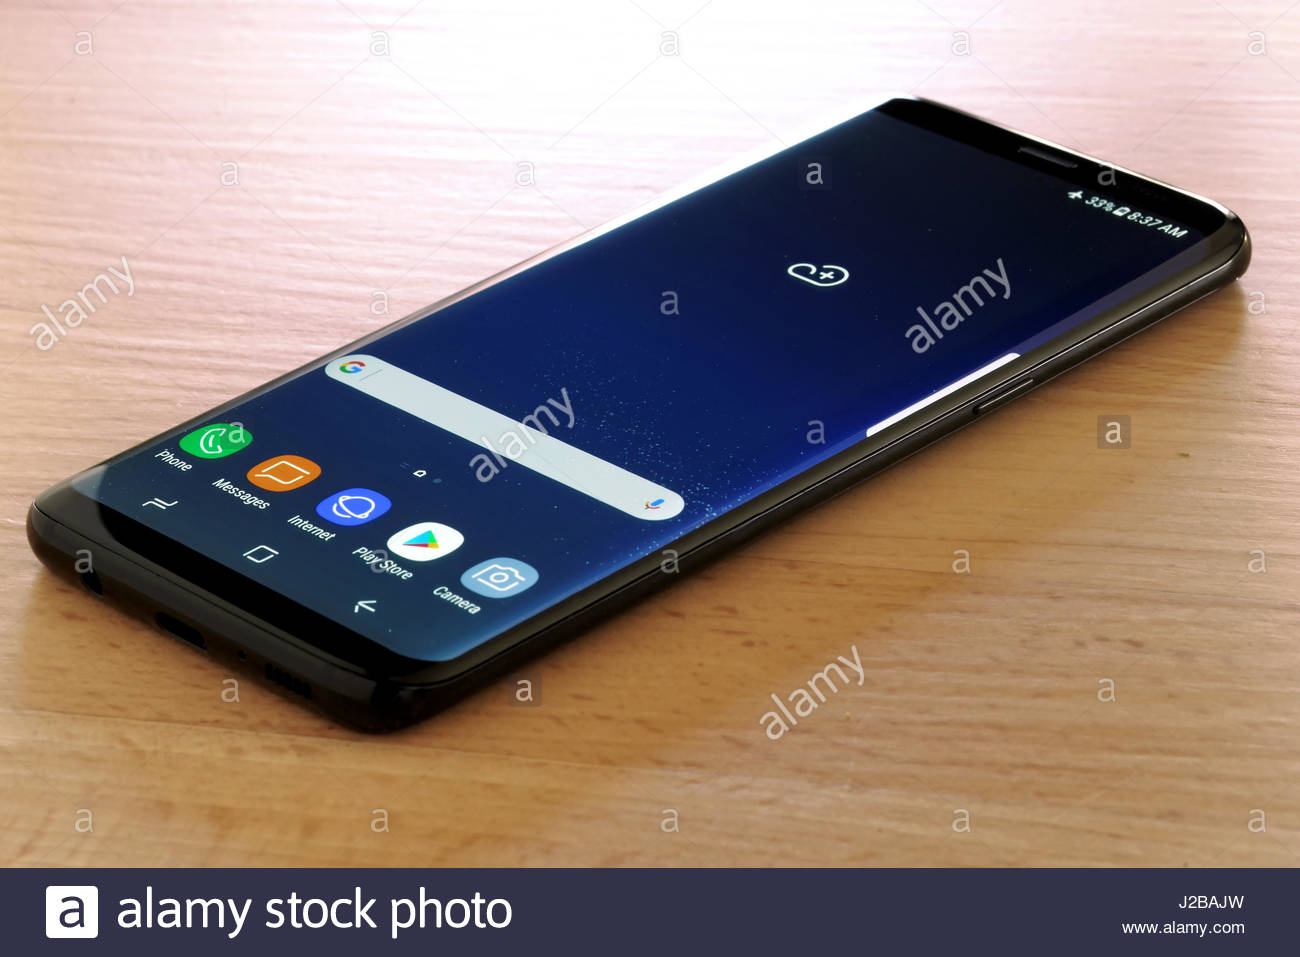Cell Phone: (52, 105, 1235, 695)
